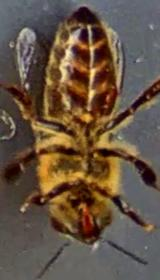varroa_mite: (92, 76, 130, 118)
